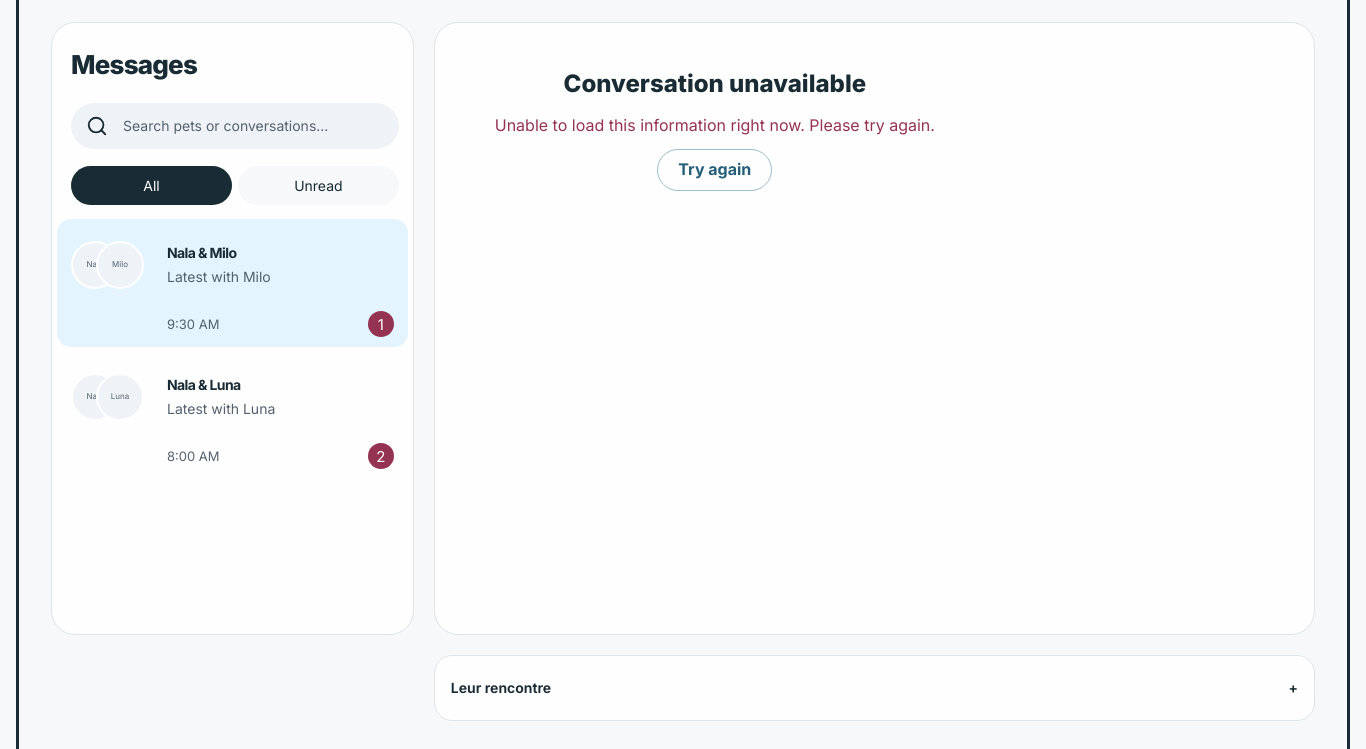
Test: Messaging persisted reads › renders a safe thread failure without replacing the selected conversation identity
The width and height of the screenshot is (1366, 749).
(page scrolled)
Expected: the text "Conversation unavailable" is shown, [564,67,866,101]
Click the heading "Leur rencontre +": (501,688) [451,679,1298,696]
(page scrolled)
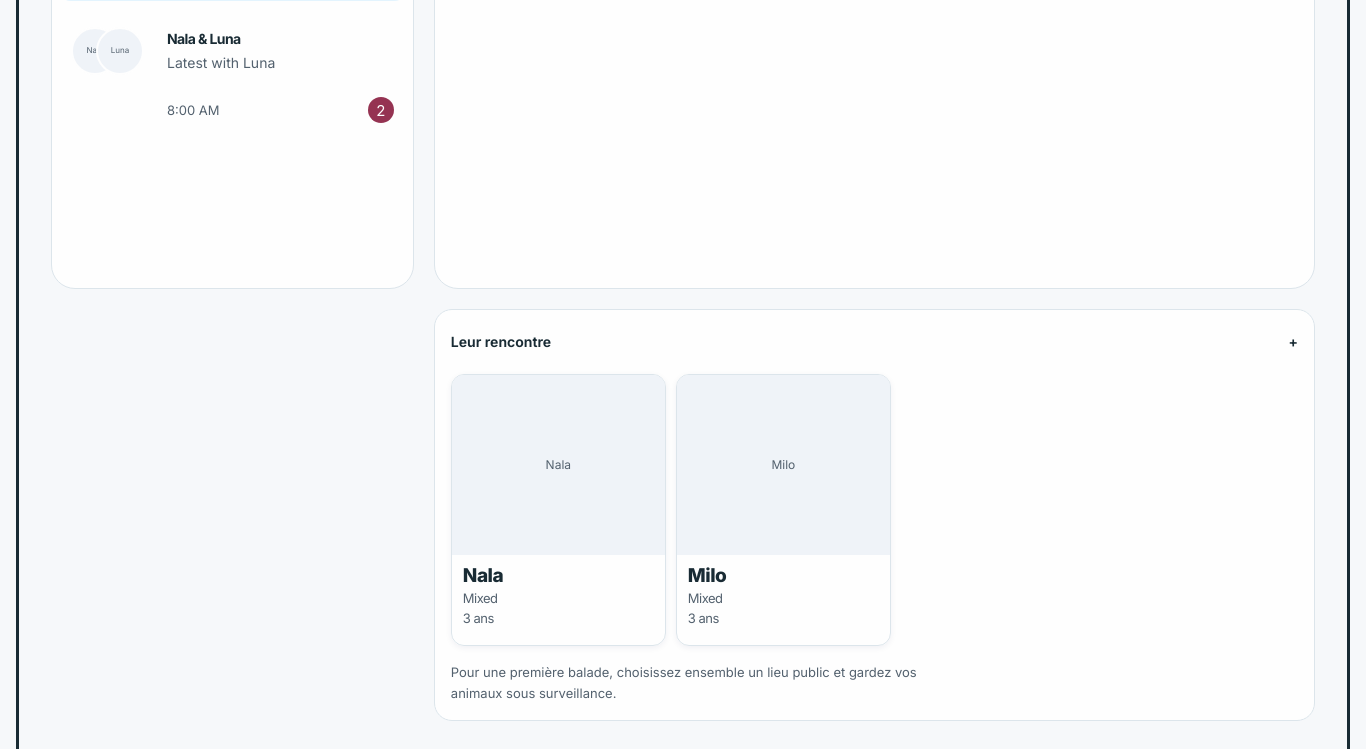
Expected: the element named "Milo details" is shown, [676,374,891,646]
